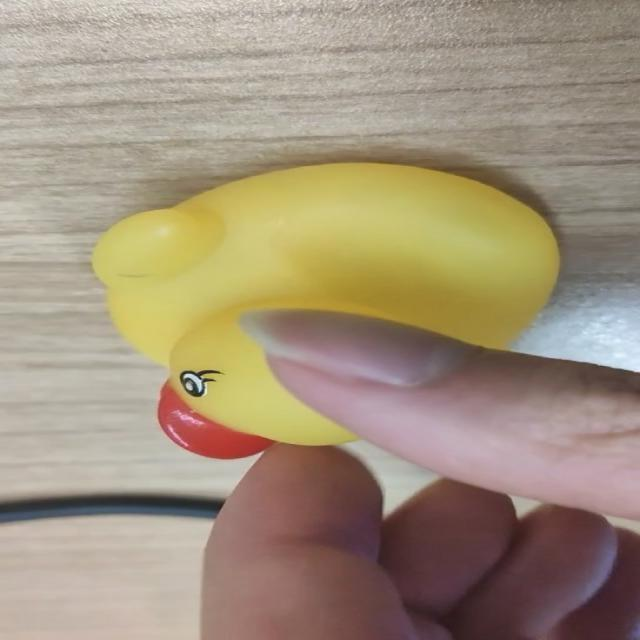rubber-duck: (91, 162, 557, 456)
